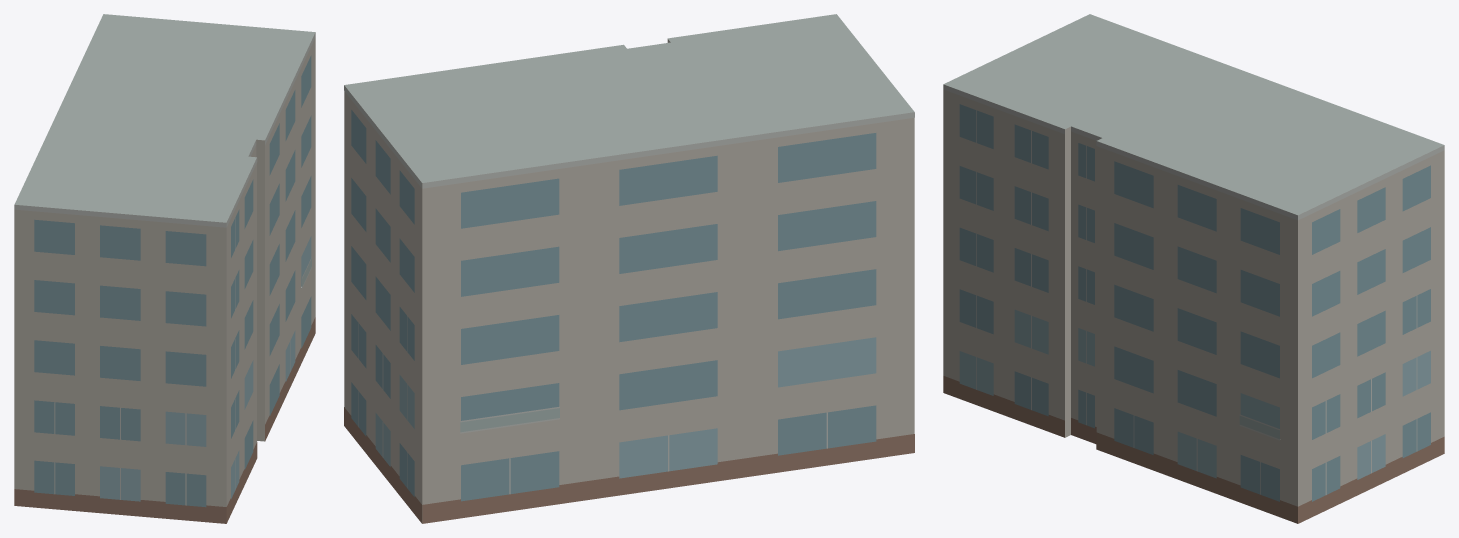
The model's file is survey-upis-33036625.glb.
3 renders of one model, left to right at view 1: azimuth 30°, elevation 25°; view 2: azimuth 150°, elevation 25°; view 3: azimuth 270°, elevation 25°, orthographic. The views are drawn at different scales.
Visible parts, largest first — view 1: survey-upis-33036625.tmp; view 2: survey-upis-33036625.tmp; view 3: survey-upis-33036625.tmp.
Part boxes in pixels (<box>): survey-upis-33036625.tmp: <box>14,14,315,523</box>; survey-upis-33036625.tmp: <box>344,14,914,523</box>; survey-upis-33036625.tmp: <box>943,14,1444,523</box>.
Bounding box in the file's own units: 20.86 × 14.9 × 21.95.
